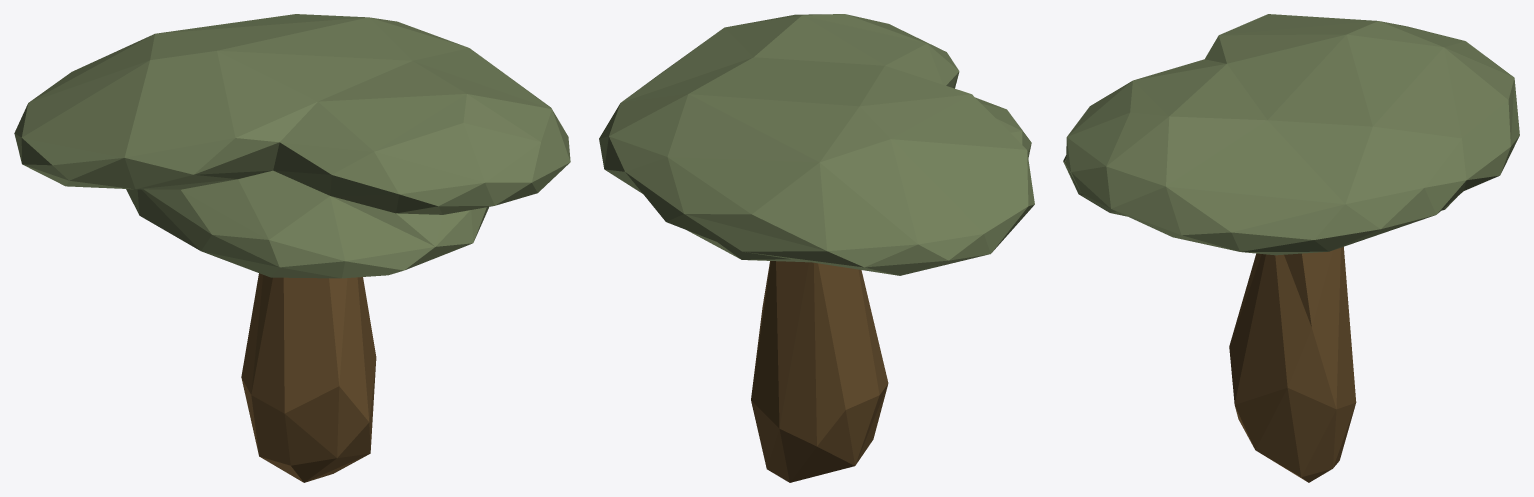
Rendered from Agac003.fbx.
The picture shows the model from 3 angles, left to right: view 1: azimuth 30°, elevation 25°; view 2: azimuth 150°, elevation 25°; view 3: azimuth 270°, elevation 25°; orthographic projection. The views are drawn at different scales.
Parts seen in each view (by area): view 1: Agac003; view 2: Agac003; view 3: Agac003.
Part boxes in pixels (left/top/right/bottom): Agac003: left=14, top=14, right=570, bottom=482; Agac003: left=599, top=14, right=1034, bottom=482; Agac003: left=1063, top=14, right=1519, bottom=482.
Bounding box in the file's own units: 4.03 × 3.83 × 3.74.
